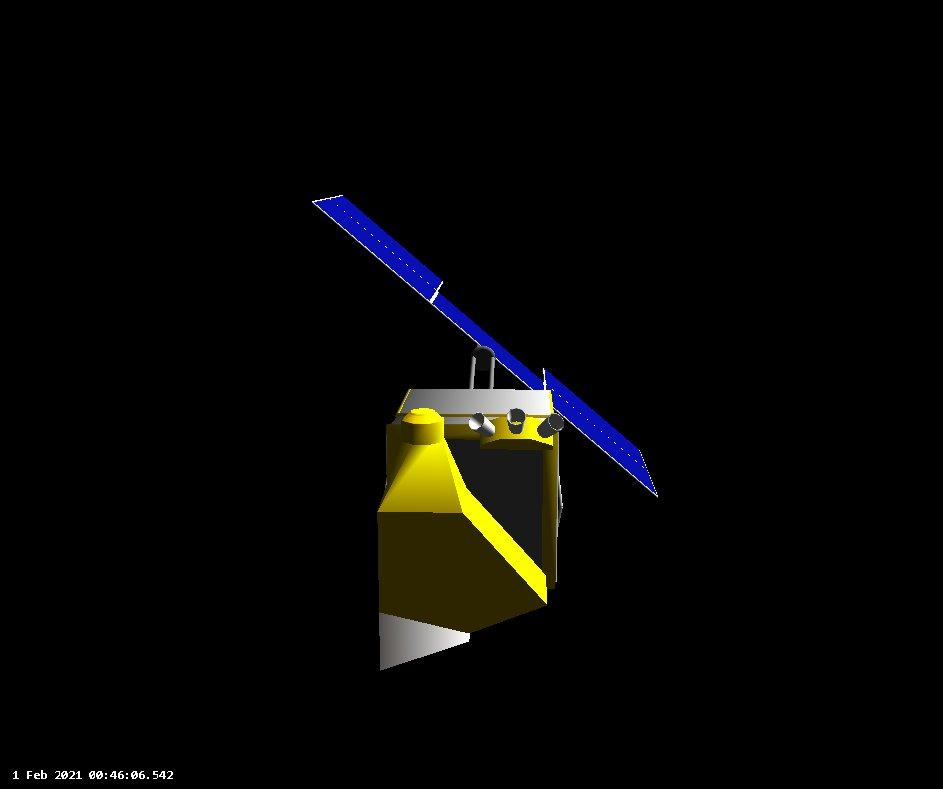body: (369, 380, 567, 631)
solar: (305, 188, 660, 507)
thruster: (464, 409, 498, 438), (535, 409, 565, 440), (504, 405, 528, 433)
